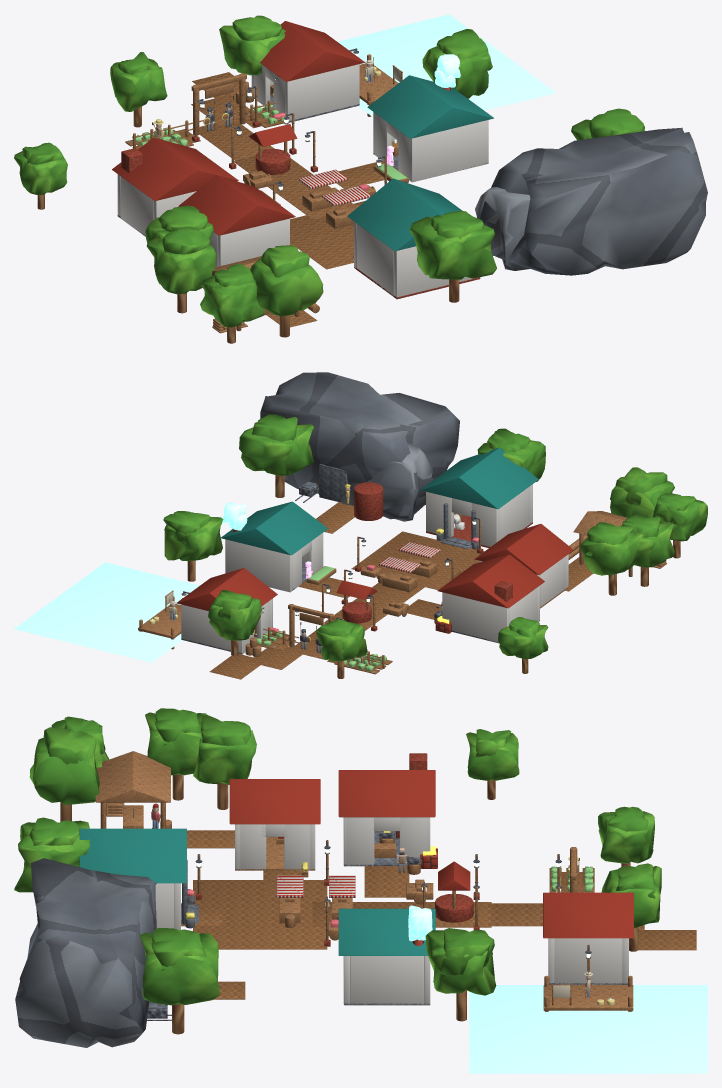
The model's file is village_map.glb.
3 views of the same model, one above another, from view 1: azimuth 30°, elevation 25°; view 2: azimuth 150°, elevation 25°; view 3: azimuth 270°, elevation 25° (orthographic). The views are drawn at different scales.
Parts seen in each view (by area): view 1: Mine_Cliff_Main-col, River_Water_Plane, Roof_Alchemist, Roof_Elder, Roof_Smith, Tree_Elder_Back_Foliage1, Roof_House, Roof_Chef, Wall_South_Alchemist-col, Wall_South_Chef-col, Tree_Lumber_3_Foliage1, Path_Market_Square (+31 smaller); view 2: Mine_Cliff_Main-col, River_Water_Plane, Roof_Elder, Roof_Alchemist, Roof_Smith, Path_Market_Square, Tree_Mine_East_Foliage1, Mine_Cliff_Ledge-col, Roof_House, Wall_North_Alchemist-col, Wall_North_Smith-col, Roof_Chef (+34 smaller); view 3: Mine_Cliff_Main-col, River_Water_Plane, Path_Market_Square, Roof_Elder, Roof_Smith, Roof_Chef, Roof_House, Tree_Mine_East_Foliage1, Roof_Alchemist, Wall_East_Alchemist-col, Lumber_Shed_Roof, Wall_East_Chef-col (+35 smaller).
Part boxes in pixels (left/top/right/bottom): Mine_Cliff_Main-col: left=479, top=127, right=707, bottom=275; River_Water_Plane: left=337, top=14, right=556, bottom=116; Roof_Alchemist: left=367, top=75, right=493, bottom=138; Roof_Elder: left=347, top=178, right=461, bottom=251; Roof_Smith: left=112, top=137, right=238, bottom=200; Tree_Elder_Back_Foliage1: left=409, top=216, right=496, bottom=279; Roof_House: left=178, top=175, right=295, bottom=235; Roof_Chef: left=260, top=21, right=365, bottom=81; Wall_South_Alchemist-col: left=411, top=120, right=488, bottom=182; Wall_South_Chef-col: left=285, top=64, right=359, bottom=120; Tree_Lumber_3_Foliage1: left=250, top=259, right=323, bottom=316; Path_Market_Square: left=290, top=201, right=364, bottom=269; Mine_Cliff_Main-col: left=260, top=372, right=459, bottom=519; River_Water_Plane: left=14, top=562, right=199, bottom=662; Roof_Elder: left=420, top=447, right=538, bottom=509; Roof_Alchemist: left=221, top=501, right=327, bottom=555; Roof_Smith: left=437, top=554, right=544, bottom=608; Path_Market_Square: left=351, top=531, right=484, bottom=589; Tree_Mine_East_Foliage1: left=239, top=424, right=314, bottom=475; Mine_Cliff_Ledge-col: left=340, top=443, right=433, bottom=521; Roof_House: left=474, top=524, right=573, bottom=575; Wall_North_Alchemist-col: left=225, top=539, right=292, bottom=592; Wall_North_Smith-col: left=442, top=592, right=509, bottom=642; Roof_Chef: left=176, top=568, right=277, bottom=611; Mine_Cliff_Main-col: left=15, top=858, right=156, bottom=1047; River_Water_Plane: left=469, top=985, right=707, bottom=1073; Path_Market_Square: left=193, top=880, right=327, bottom=949; Roof_Elder: left=79, top=828, right=186, bottom=883; Roof_Smith: left=338, top=770, right=435, bottom=817; Roof_Chef: left=543, top=892, right=633, bottom=938; Roof_House: left=229, top=779, right=320, bottom=824; Tree_Mine_East_Foliage1: left=140, top=932, right=219, bottom=1005; Roof_Alchemist: left=338, top=908, right=435, bottom=955; Wall_East_Alchemist-col: left=350, top=956, right=423, bottom=1004; Lumber_Shed_Roof: left=95, top=751, right=170, bottom=802; Wall_East_Chef-col: left=554, top=938, right=622, bottom=984.
Bounding box in the file's own units: 45.73 × 9.2 × 46.5.
41 materials, 11 textured.
